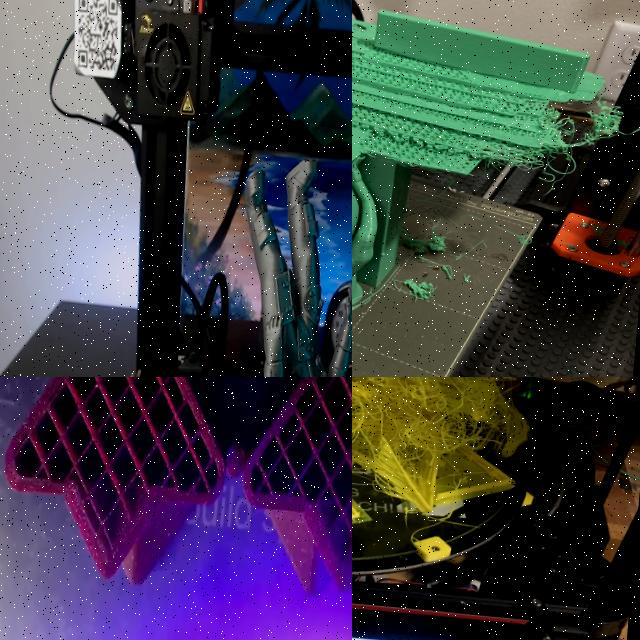spaghetti: (352, 377, 544, 555), (513, 77, 640, 200), (398, 232, 458, 266), (393, 274, 445, 308), (490, 225, 540, 258)
